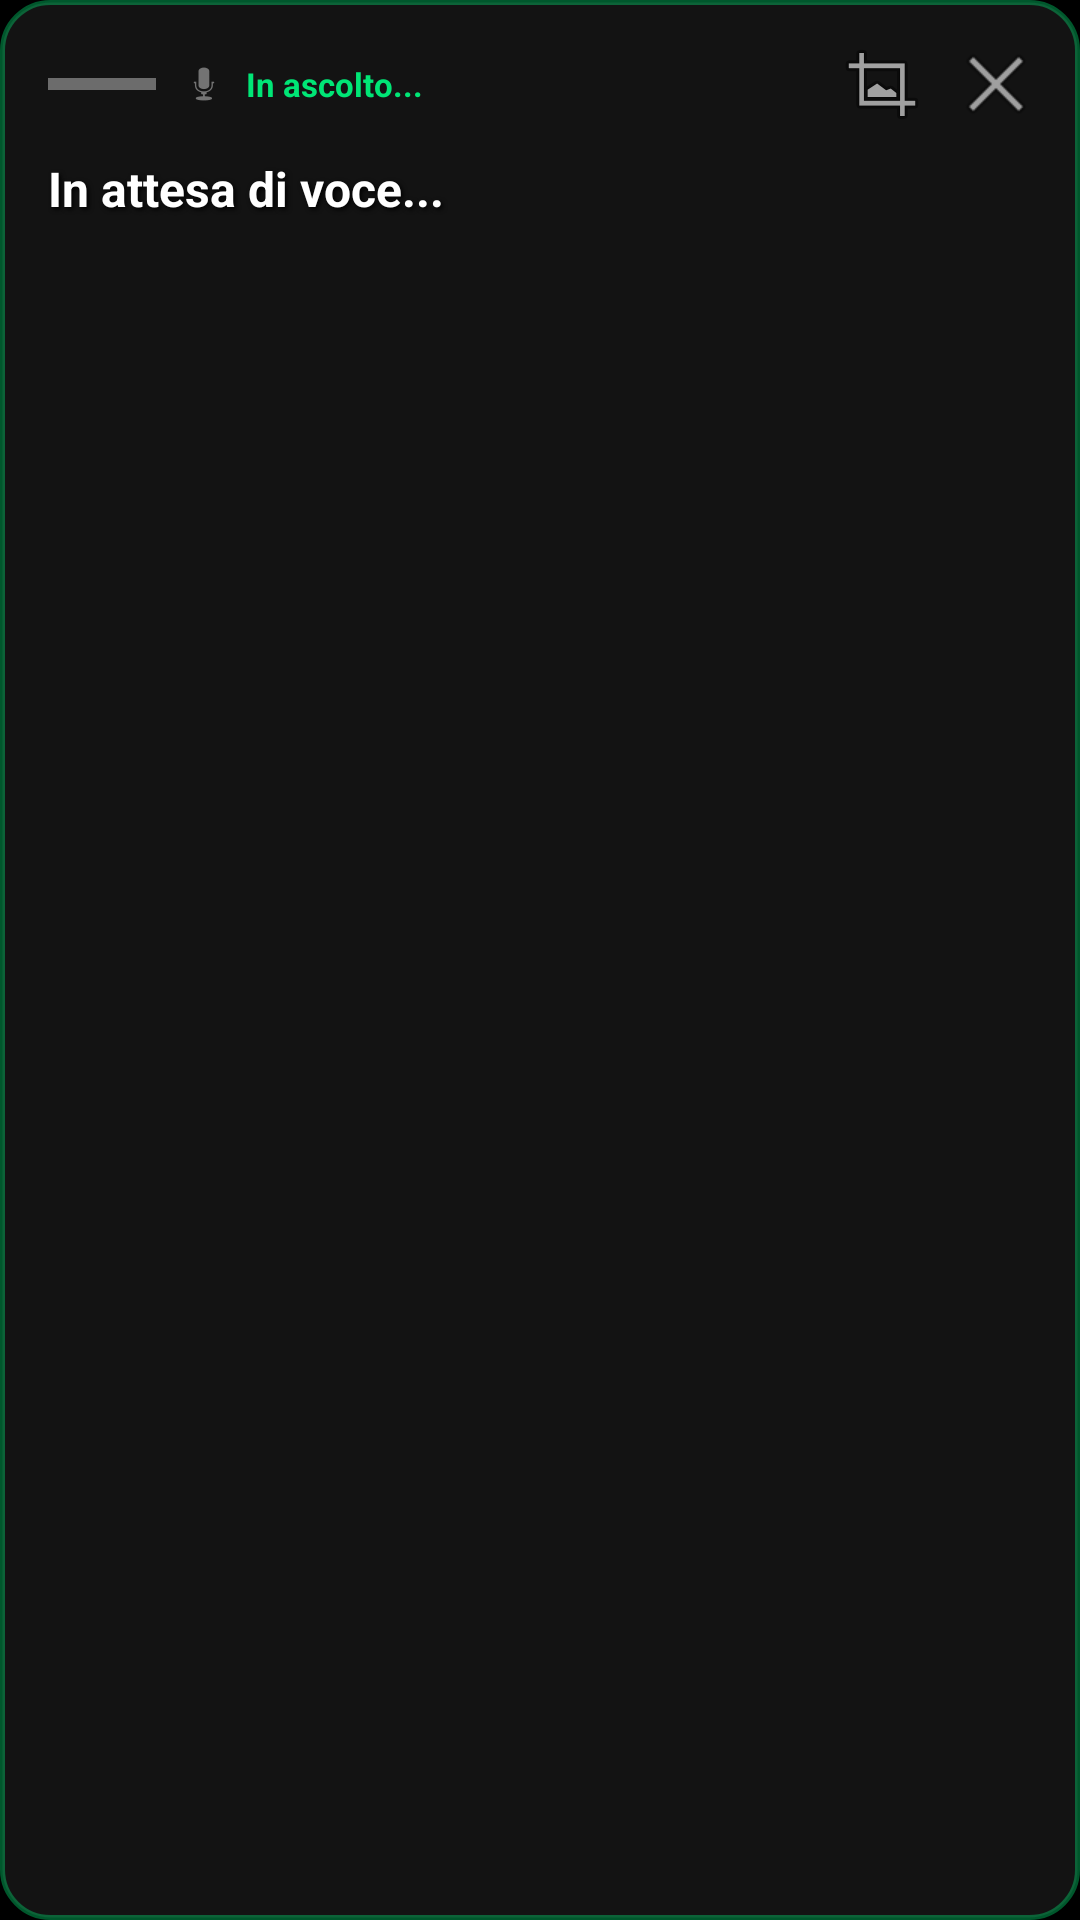

Icons on this 1080px x 1920px Android screen, each with the point to tap as (x=x, y=y):
Chiudi sottotitoli: (x=996, y=84)
speak now: (x=204, y=84)
